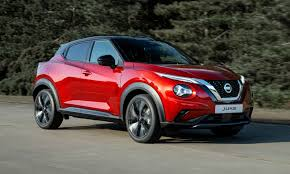Nissan: (43, 42, 252, 135)
